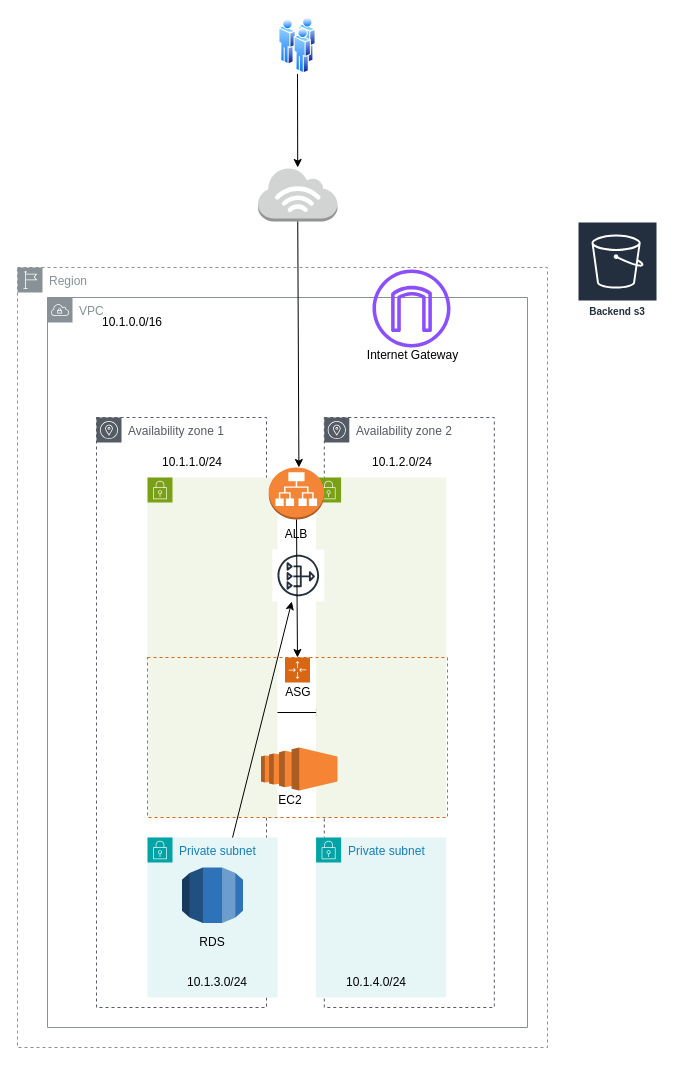
The diagram is 675 pixels wide and 1065 high, and some of its shapes have lost their labels. Each missing label, with the centre of its shape:
"Internet" belongs at point 297,194.
"NAT gateway" belongs at point 297,575.
"Public subnet 1" belongs at point 212,647.
"Public subnet 2" belongs at point 380,647.
